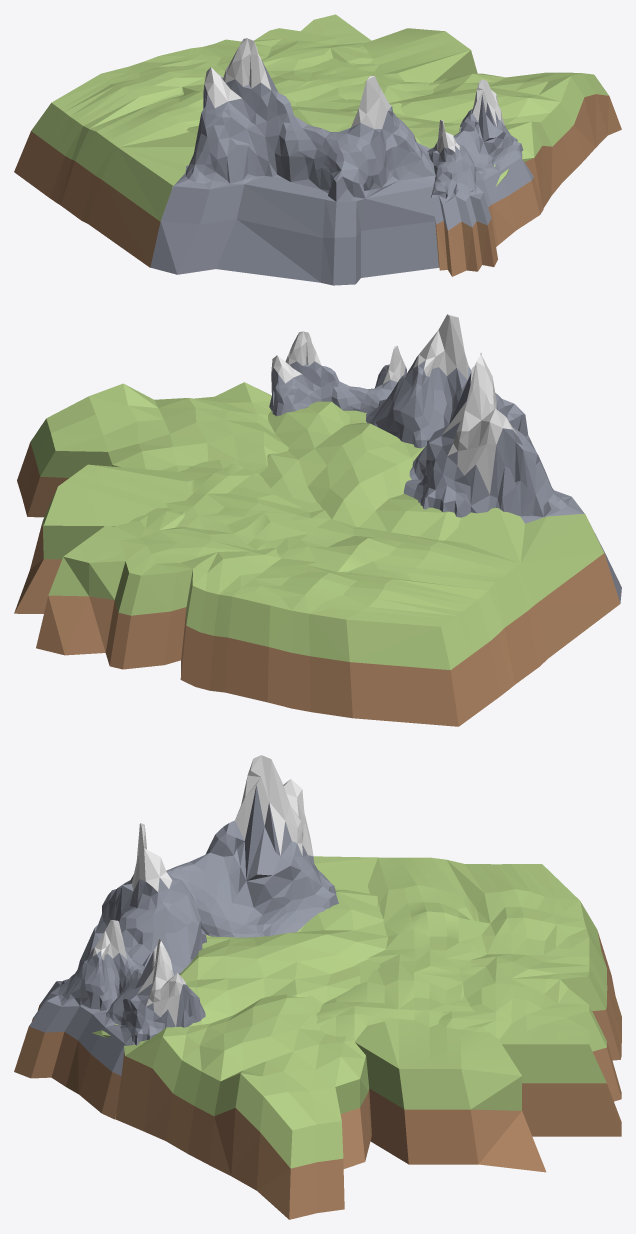
The model's file is mountain-island.fbx.
3 views of the same model, one above another, from view 1: azimuth 30°, elevation 25°; view 2: azimuth 150°, elevation 25°; view 3: azimuth 270°, elevation 25° (orthographic). The views are drawn at different scales.
Visible parts, largest first — view 1: polySurface346; view 2: polySurface346; view 3: polySurface346.
Part boxes in pixels (x1,y1,x2,y2): polySurface346: [14, 14, 621, 285]; polySurface346: [14, 314, 621, 726]; polySurface346: [14, 755, 621, 1219].
Size of the model in its own units: 53.34 by 21.17 by 46.72.
